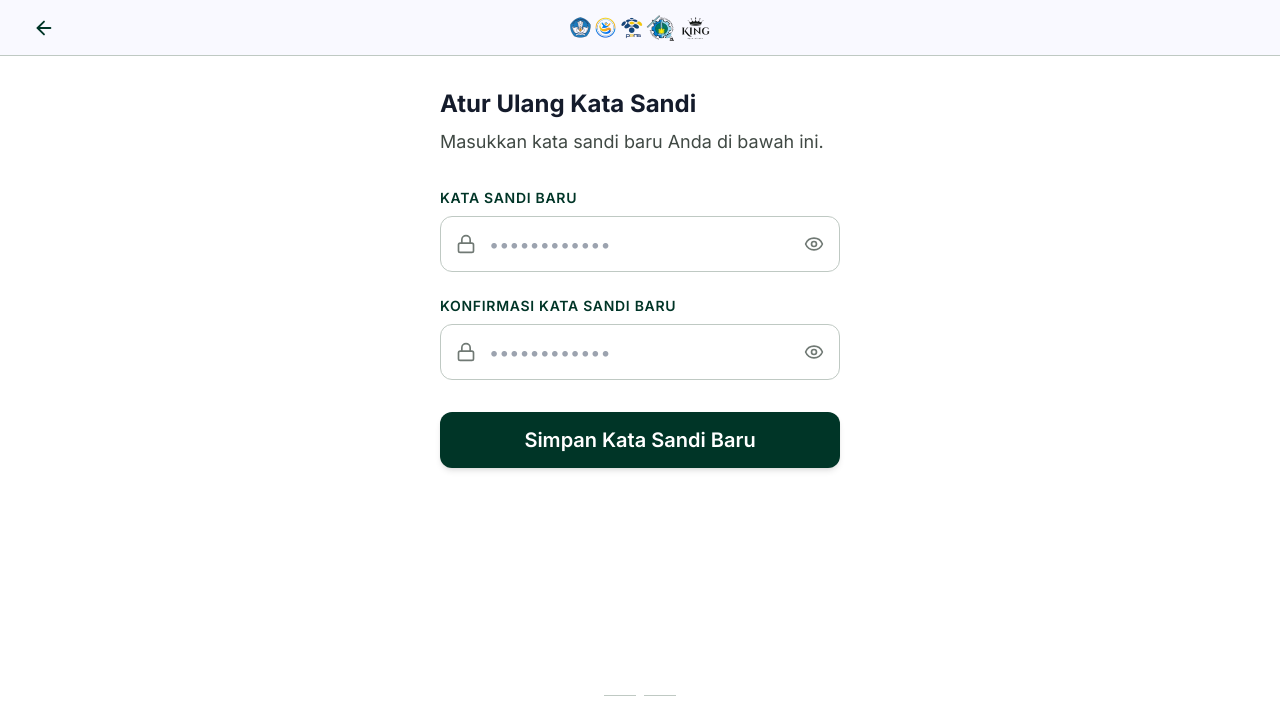
it: TASK-0213 Reset Password UI Component › renders password inputs and handles successful submission
Type "SuperSecret123!" into the password field labelled "Kata Sandi Baru" at point(640, 244), box [440,216,840,272]
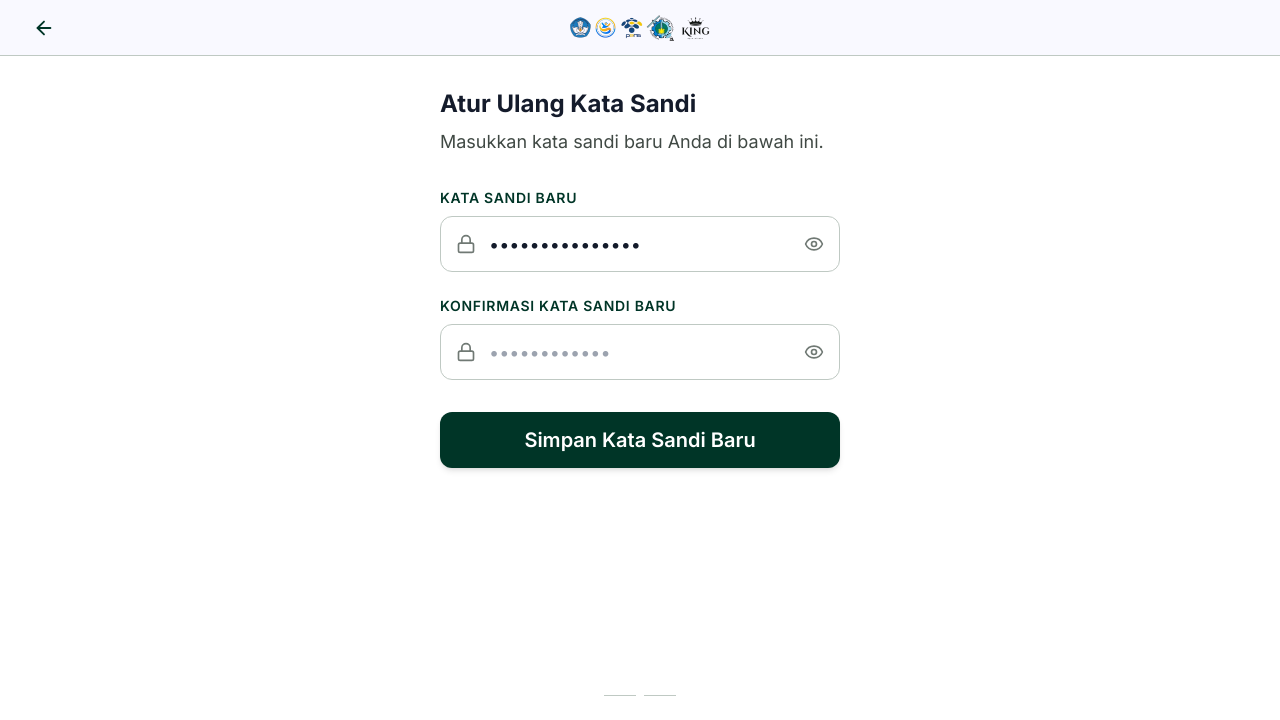
Type "SuperSecret123!" into the password field labelled "Konfirmasi Kata Sandi Baru" at point(640, 352), box [440,324,840,380]
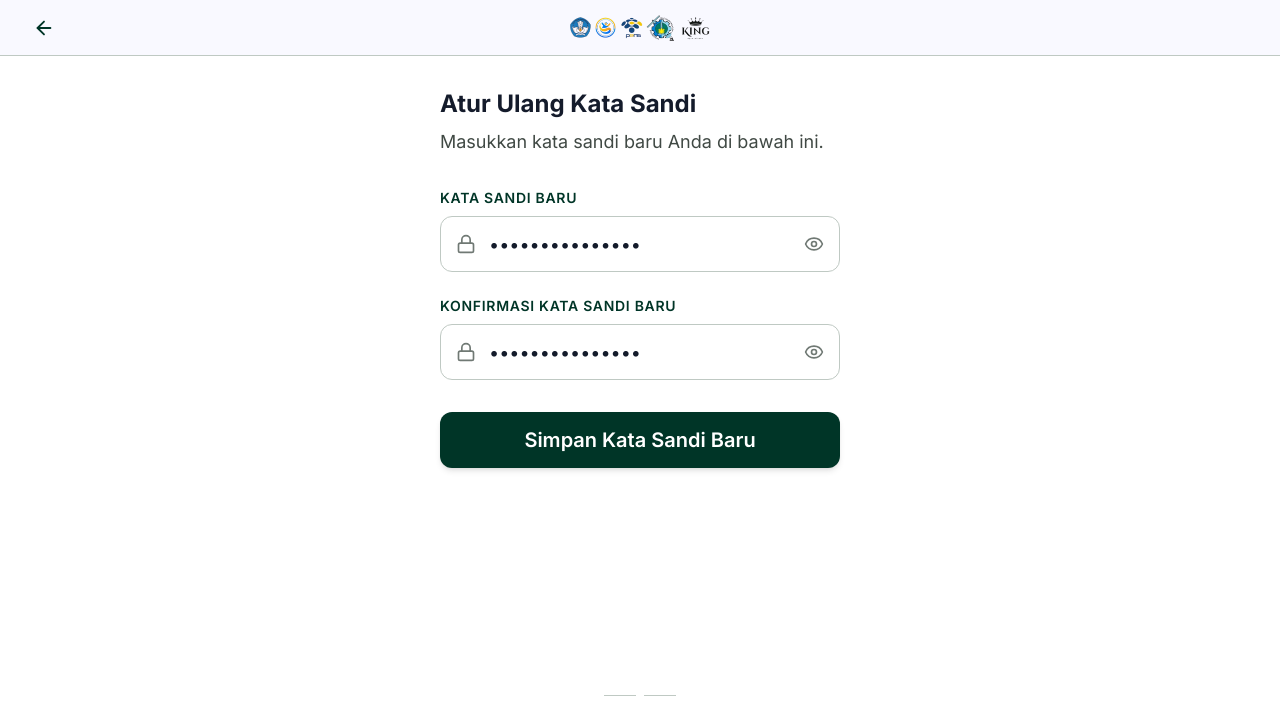
Click the button "Simpan Kata Sandi Baru" at point(640, 440), box [440,412,840,468]
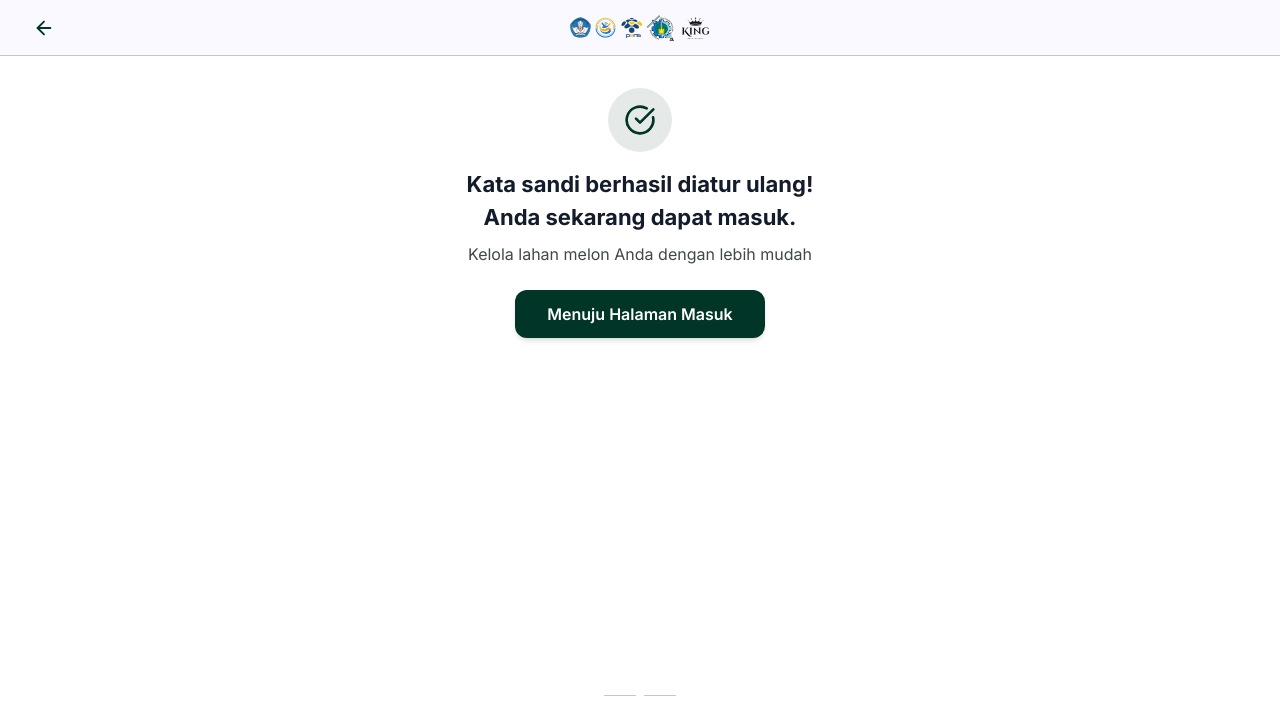
Check: the heading "Kata sandi berhasil diatur ulang! Anda sekarang dapat masuk." is shown, box [440,168,840,234]
Check: the link "Menuju Halaman Masuk" is shown, box [515,290,765,338]
